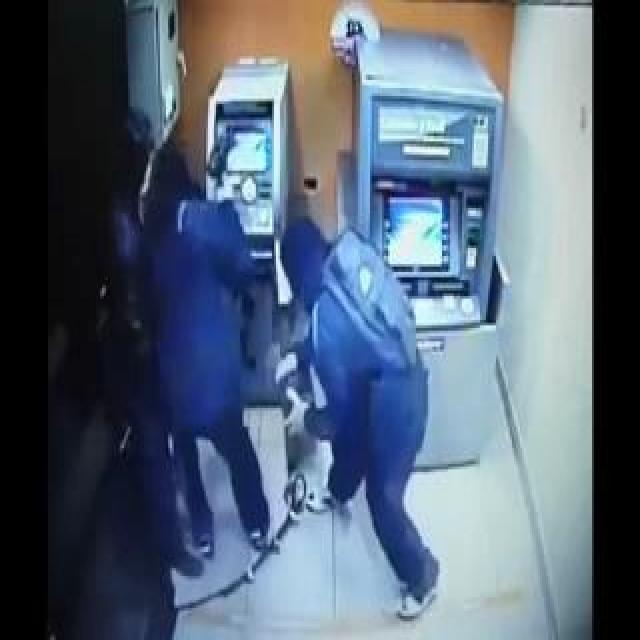thief: (112, 108, 234, 251), (280, 200, 356, 292)
